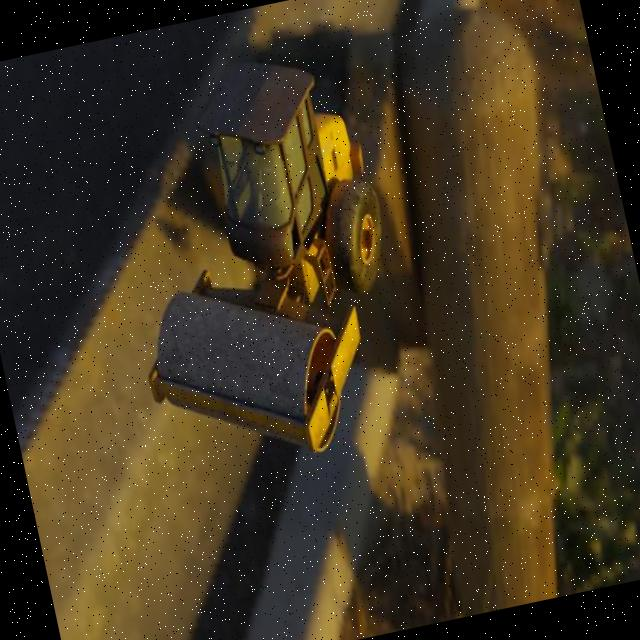Roller: (86, 39, 426, 482)
